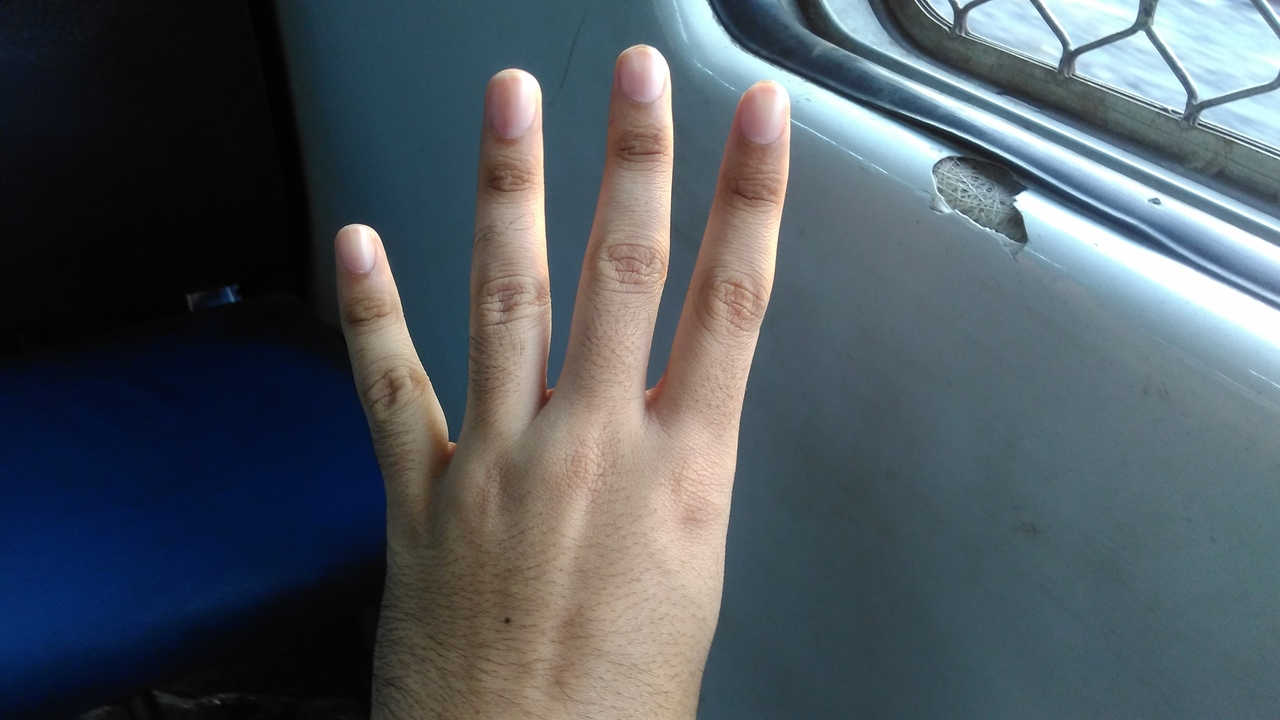fingertip: (732, 70, 798, 146), (610, 38, 674, 106), (480, 64, 542, 134), (328, 216, 386, 280)
